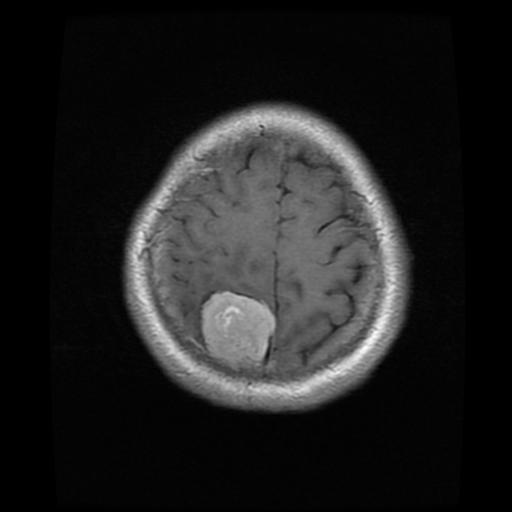Menigiomia_tumour: (200, 290, 276, 368)
